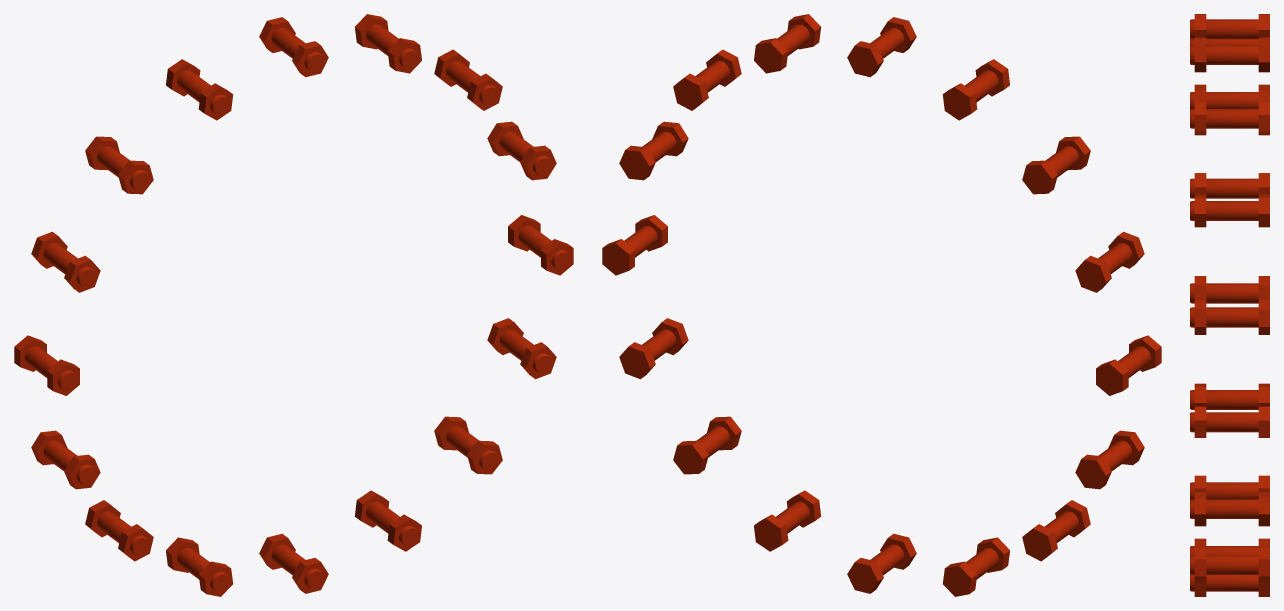
The model's file is Bolt_x17_03.FBX.
The picture shows the model from 3 angles, left to right: view 1: azimuth 30°, elevation 25°; view 2: azimuth 150°, elevation 25°; view 3: azimuth 270°, elevation 25°; orthographic projection. The views are drawn at different scales.
Parts seen in each view (by area): view 1: Bolt_03; view 2: Bolt_03; view 3: Bolt_03.
Part boxes in pixels (x1=…): Bolt_03: x1=14, y1=14, x2=573, y2=596; Bolt_03: x1=602, y1=14, x2=1161, y2=596; Bolt_03: x1=1190, y1=14, x2=1269, y2=596.
Size of the model in its own units: 36.91 by 36.91 by 5.06.
